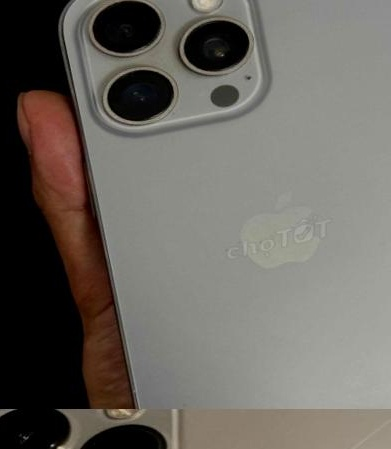physical_damage: (333, 409, 391, 449), (268, 442, 372, 449)
